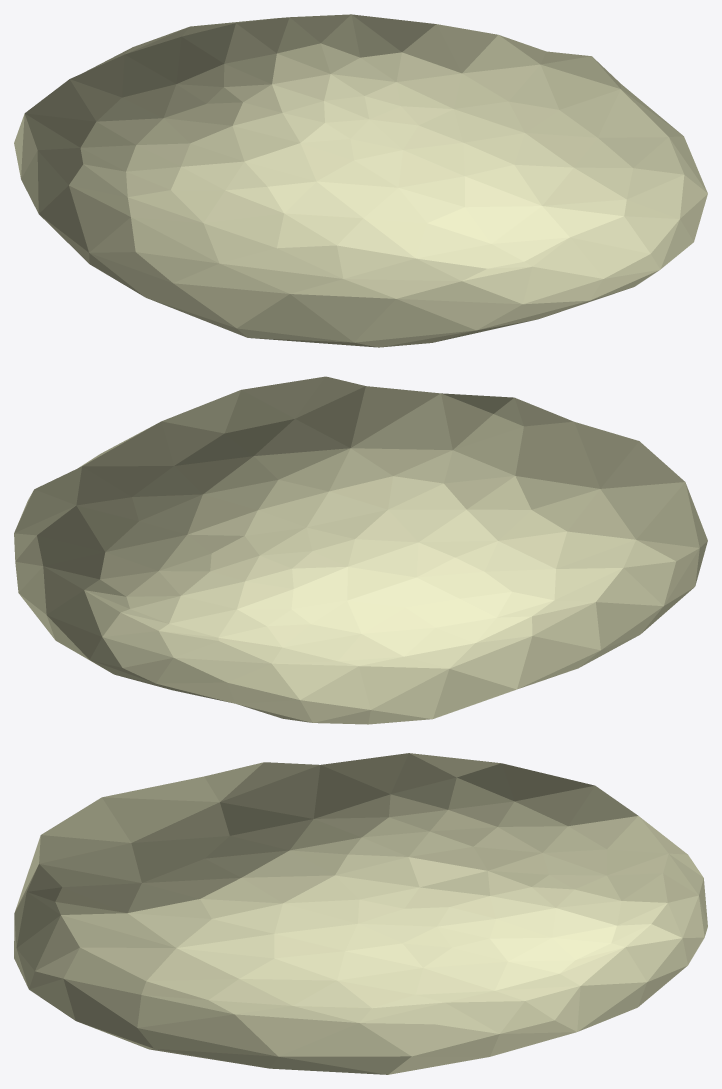
The model's file is pizza.fbx.
The picture shows the model from 3 angles, top to bottom: view 1: azimuth 30°, elevation 25°; view 2: azimuth 150°, elevation 25°; view 3: azimuth 270°, elevation 25°; orthographic projection. The views are drawn at different scales.
Visible parts, largest first — view 1: Flat; view 2: Flat; view 3: Flat.
Part boxes in pixels (x1,y1,x2,y2): Flat: [14, 14, 707, 347]; Flat: [14, 376, 707, 724]; Flat: [14, 753, 707, 1074].
Size of the model in its own units: 141 by 16.34 by 147.
1 material, 1 textured.
